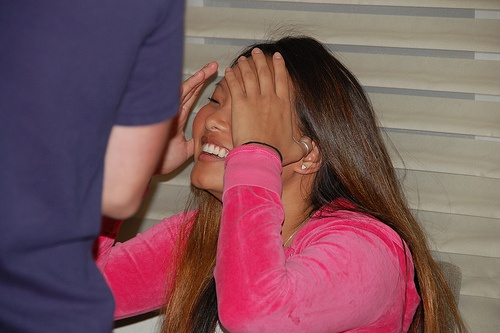person: (93, 36, 467, 333)
person/hand: (225, 55, 302, 167), (153, 61, 218, 177)
person/head: (192, 39, 384, 211)
